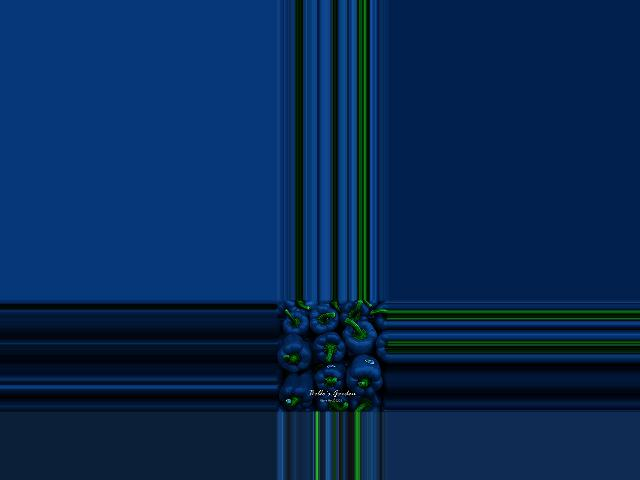bell_pepper: (347, 389, 385, 412)
